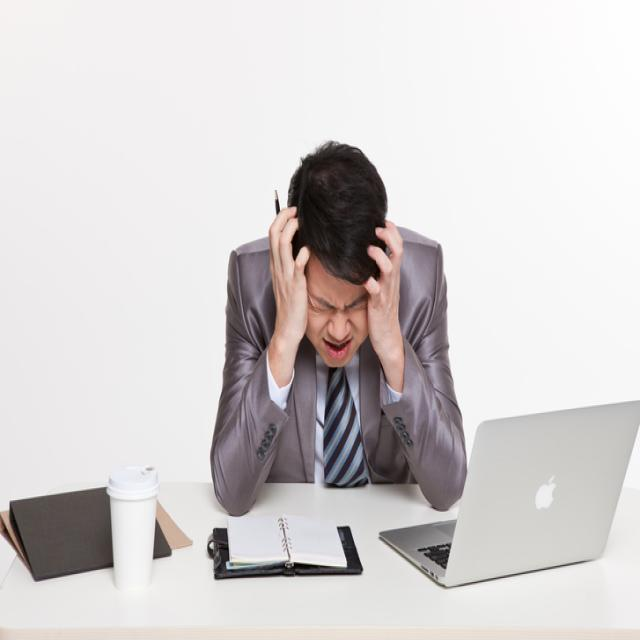studying-person: (194, 139, 469, 609)
